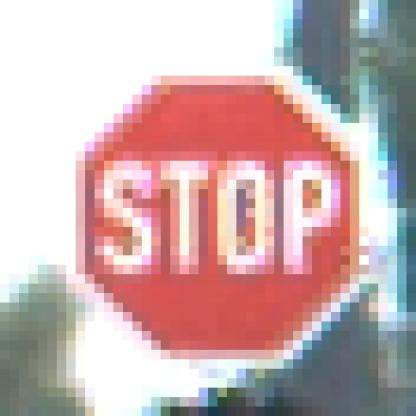stop: (43, 59, 390, 385)
